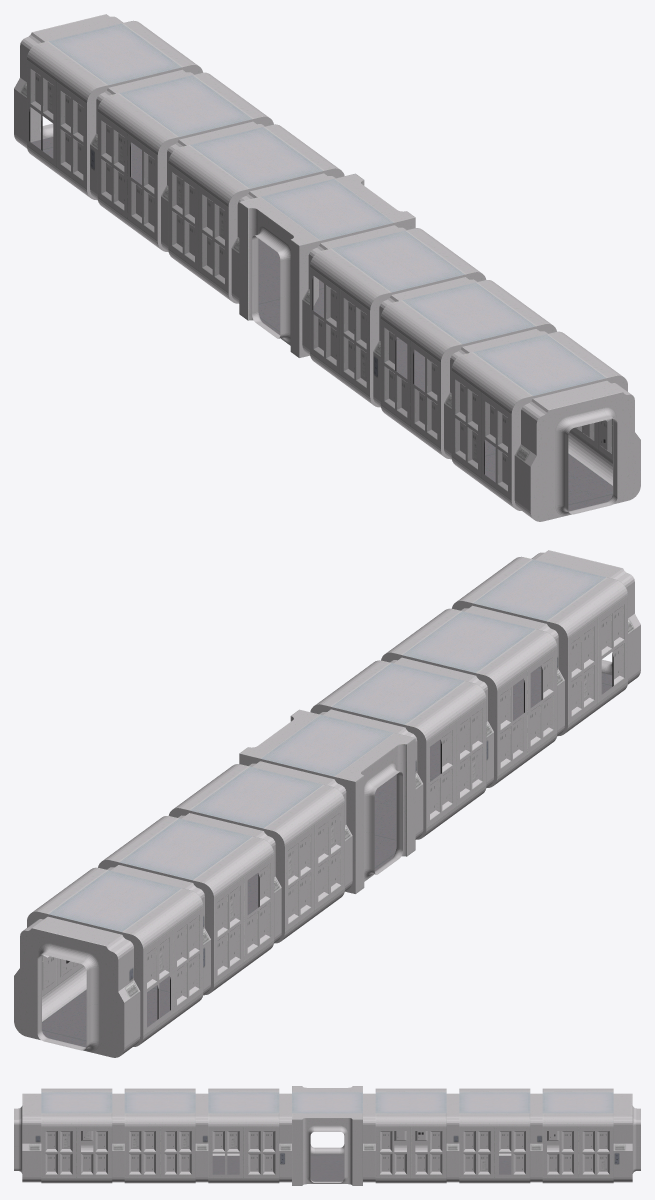
The model's file is thm_spc_corvette_dungeon_r62_hall62_mesh_r62.fbx.
The picture shows the model from 3 angles, top to bottom: view 1: azimuth 30°, elevation 25°; view 2: azimuth 150°, elevation 25°; view 3: azimuth 270°, elevation 25°; orthographic projection. The views are drawn at different scales.
Parts seen in each view (by area): view 1: mesh_node; view 2: mesh_node; view 3: mesh_node.
Part boxes in pixels (x1=…): mesh_node: x1=14, y1=14, x2=640, y2=521; mesh_node: x1=14, y1=550, x2=640, y2=1057; mesh_node: x1=14, y1=1086, x2=640, y2=1185.
Size of the model in its own units: 4 by 3.5 by 30.
